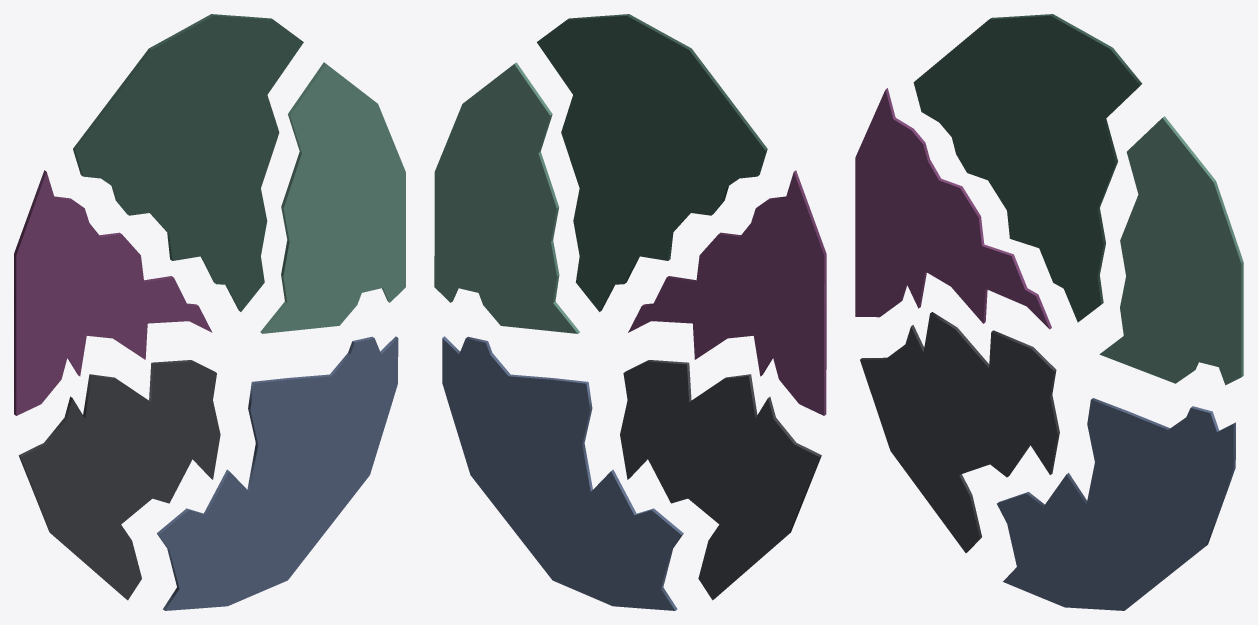
Rendered from Mirror_Shards.fbx.
The picture shows the model from 3 angles, left to right: view 1: azimuth 30°, elevation 25°; view 2: azimuth 150°, elevation 25°; view 3: azimuth 330°, elevation 25°; orthographic projection.
Parts seen in each view (by area): view 1: Shard4, Shard1, Shard2, Shard5, Shard3; view 2: Shard4, Shard1, Shard2, Shard5, Shard3; view 3: Shard4, Shard1, Shard2, Shard5, Shard3.
Part boxes in pixels (x1,y1,x2,y2): Shard4: (73,14,303,311); Shard1: (157,336,398,610); Shard2: (18,360,220,600); Shard5: (260,62,405,333); Shard3: (14,170,212,415); Shard4: (537,14,767,311); Shard1: (442,336,683,610); Shard2: (620,360,821,600); Shard5: (434,62,579,333); Shard3: (628,170,826,415); Shard4: (913,14,1142,322); Shard1: (997,398,1235,610); Shard2: (860,312,1059,552); Shard5: (1099,116,1243,385); Shard3: (855,88,1051,329).
Bounding box in the file's own units: 17.8 × 25.93 × 0.1918.
